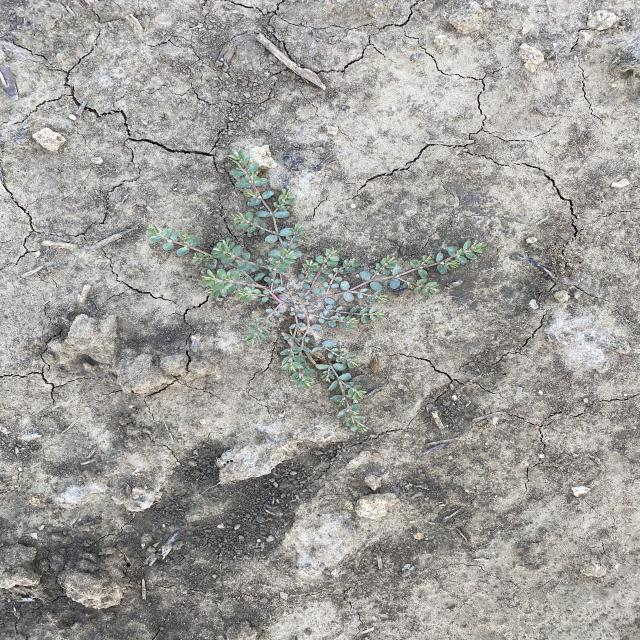SpottedSpurge: (143, 148, 488, 436)
